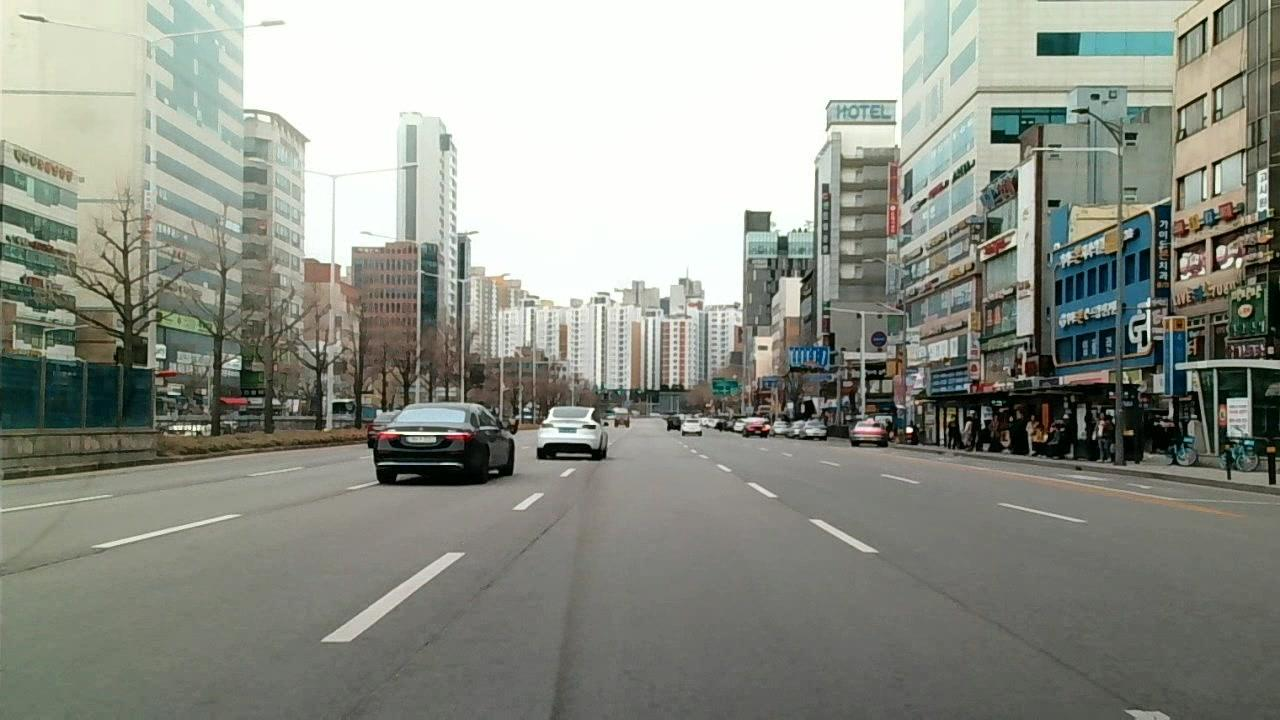vcrack: (1015, 632, 1136, 712), (903, 571, 998, 629), (430, 580, 494, 642), (505, 510, 566, 570), (1, 550, 100, 580), (386, 642, 424, 679)
